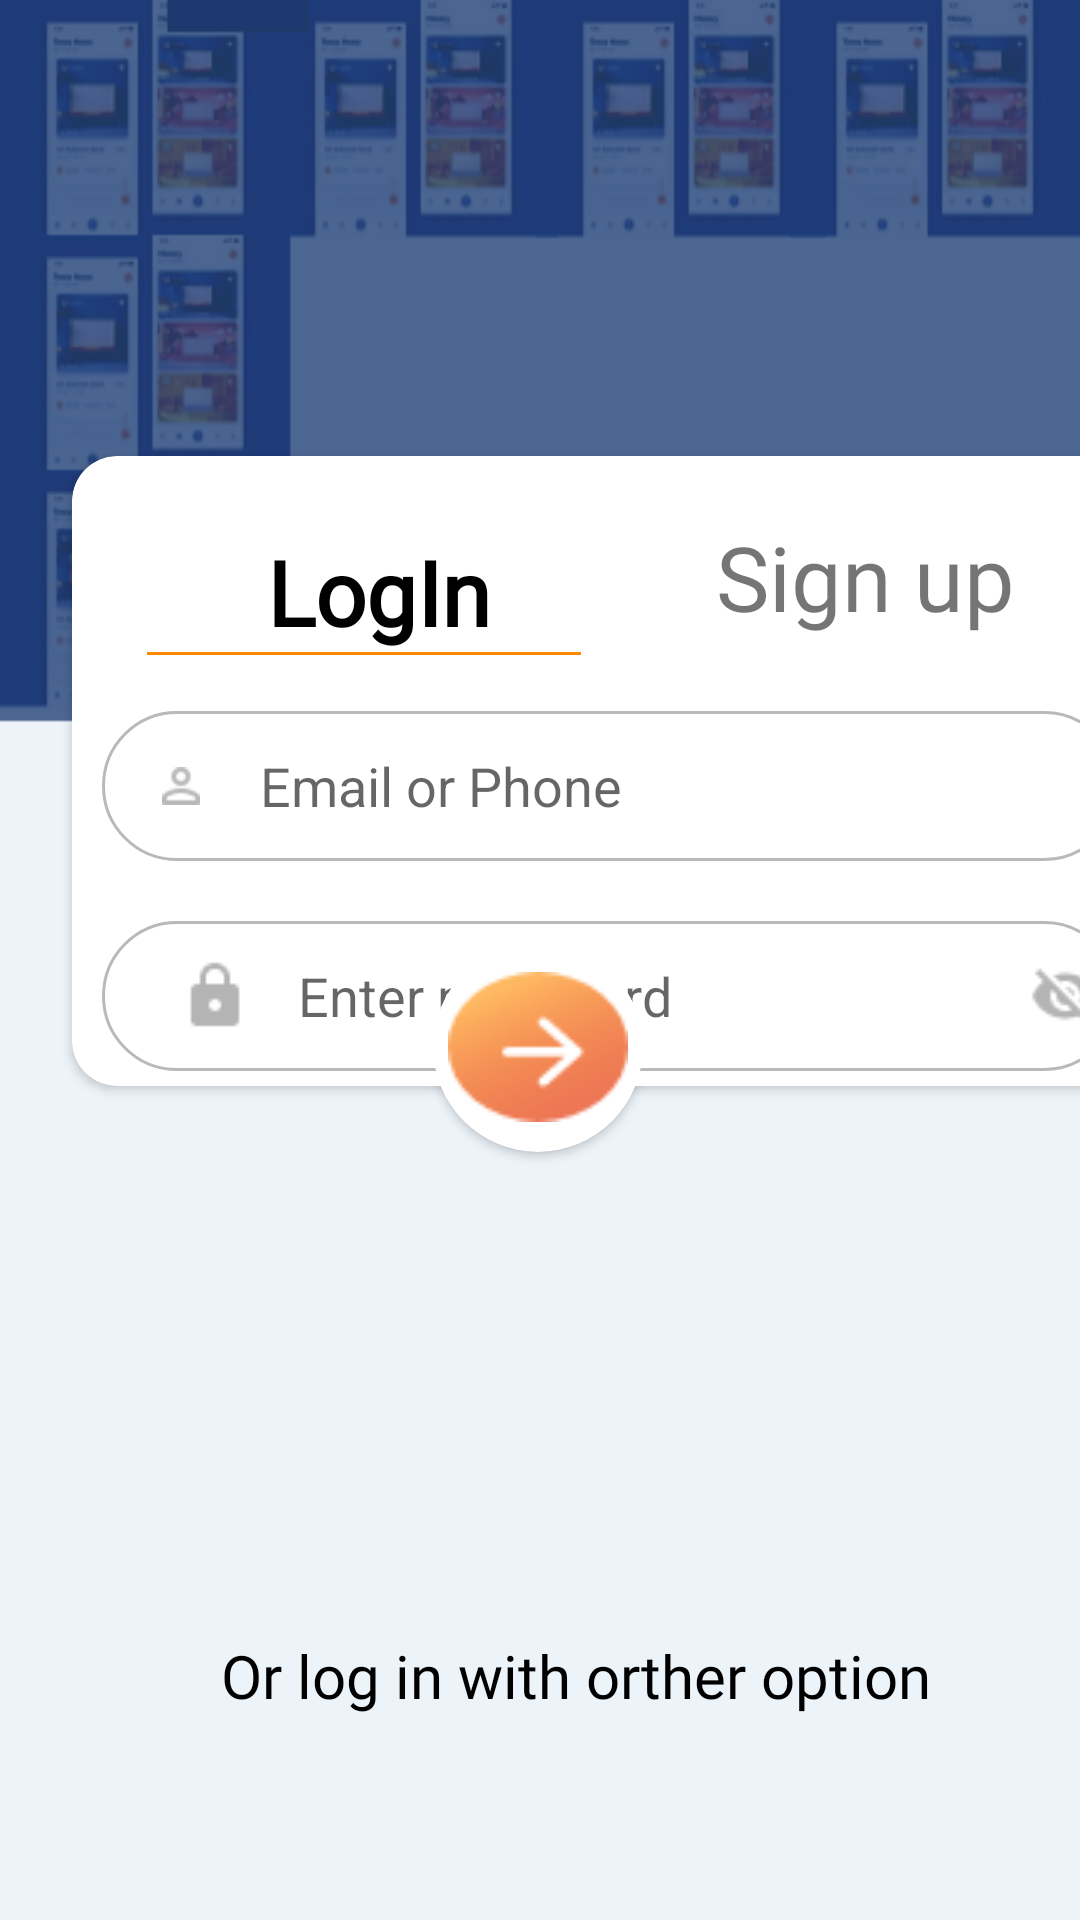

Named icons in this screenshot (1080px x 1920px) and their bounding boxes, (x1, y1, x2, y2):
arrow: (440, 972, 642, 1122)
lock: (190, 962, 240, 1027)
user: (162, 767, 200, 805)
